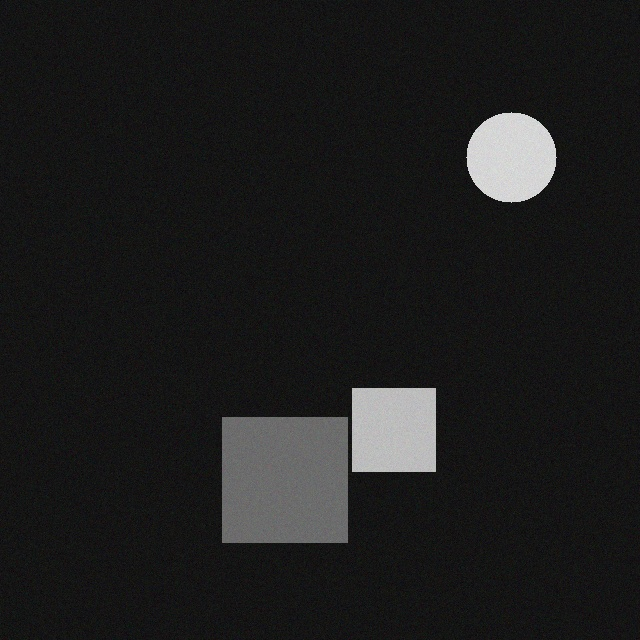circle: (477, 112, 567, 202)
square: (233, 417, 358, 542), (363, 388, 446, 471)
